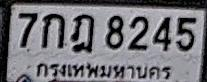2: (128, 15, 148, 50)
4: (152, 16, 170, 51)
5: (176, 17, 196, 51)
7: (18, 12, 38, 48)
8: (106, 15, 124, 49)
A01: (41, 13, 65, 48)
A14: (70, 14, 94, 52)
BKK: (34, 59, 175, 82)
